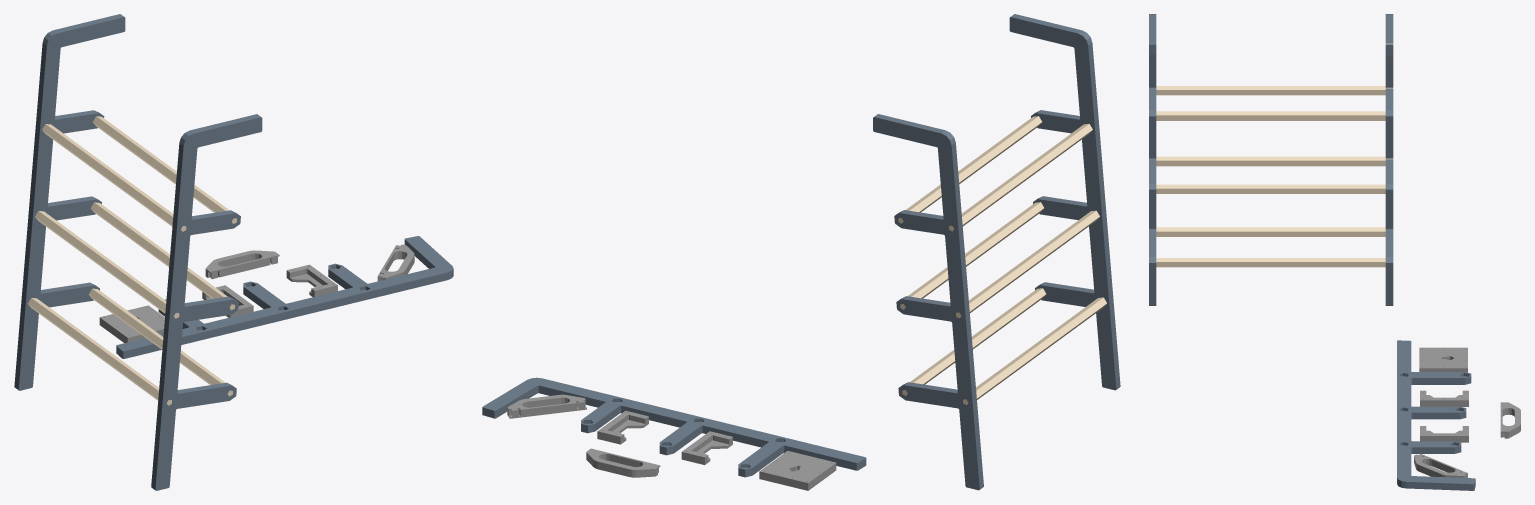
The model's file is Lean-ah Shoe Rack v27.obj.
3 views of the same model, side by side, from view 1: azimuth 30°, elevation 25°; view 2: azimuth 150°, elevation 25°; view 3: azimuth 270°, elevation 25° (orthographic). The views are drawn at different scales.
Parts seen in each view (by area): view 1: Body1, Body5; view 2: Body1, Body5; view 3: Body1, Body5.
Part boxes in pixels (left/top/right/bottom): Body1: left=14, top=14, right=453, bottom=490; Body5: left=205, top=244, right=414, bottom=281; Body1: left=482, top=14, right=1120, bottom=490; Body5: left=507, top=394, right=658, bottom=477; Body1: left=1149, top=14, right=1475, bottom=490; Body5: left=1414, top=402, right=1520, bottom=477.
Size of the model in its own units: 111 by 81.75 by 91.38.
